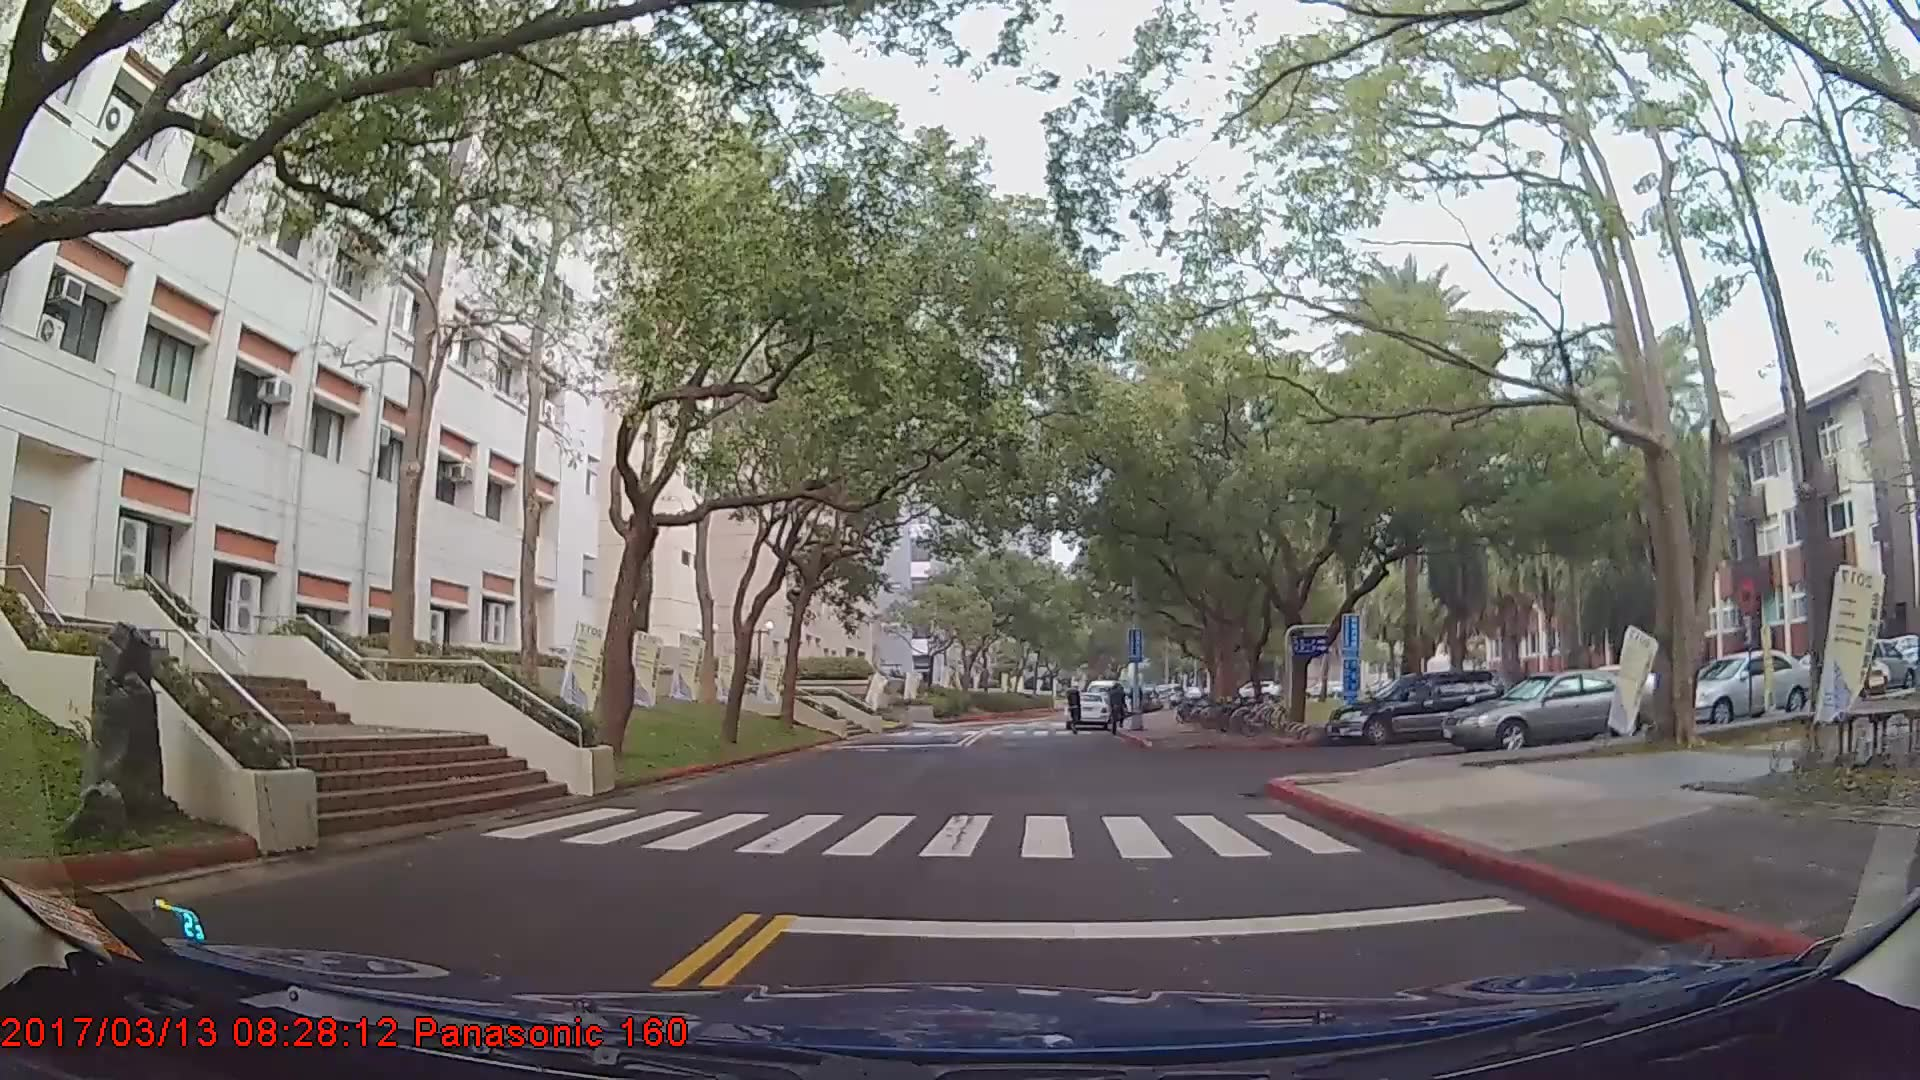pedestrian: (1109, 683, 1132, 734), (1067, 684, 1087, 736)
vehicle: (1441, 669, 1648, 753), (1333, 668, 1503, 746), (1674, 650, 1819, 725), (1063, 689, 1112, 729)
